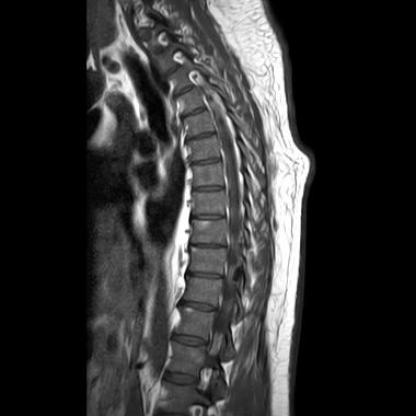Disc Protrusionrotation: (175, 89, 206, 118), (184, 131, 217, 146)
